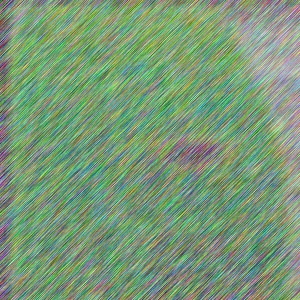Bacterial_Leaf_Blight: (147, 124, 246, 178)
